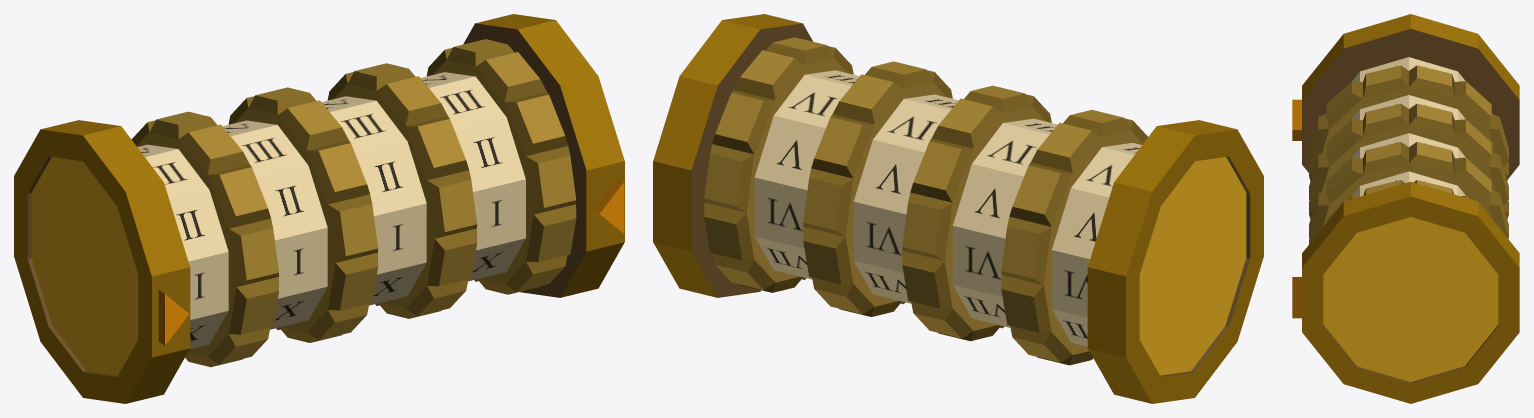
File: Padlock_Roman_Numbers.glb
The picture shows the model from 3 angles, left to right: view 1: azimuth 30°, elevation 25°; view 2: azimuth 150°, elevation 25°; view 3: azimuth 270°, elevation 25°; orthographic projection. The views are drawn at different scales.
Visible parts, largest first — view 1: PiratePadlock_01_base, Cylinder.014, Cylinder.012, Cylinder.013, Cylinder.016; view 2: PiratePadlock_01_base, Cylinder.013, Cylinder.014, Cylinder.012, Cylinder.016; view 3: PiratePadlock_01_base, Cylinder.012, Cylinder.016, Cylinder.013, Cylinder.014.
Boxes of the visible parts, x1,y1,x2,y2 form: PiratePadlock_01_base: (14, 14, 624, 403); Cylinder.014: (421, 39, 576, 294); Cylinder.012: (223, 87, 378, 342); Cylinder.013: (321, 63, 477, 318); Cylinder.016: (131, 111, 278, 367); PiratePadlock_01_base: (653, 14, 1263, 403); Cylinder.013: (803, 61, 958, 316); Cylinder.014: (704, 37, 859, 292); Cylinder.012: (902, 85, 1057, 341); Cylinder.016: (1001, 110, 1147, 365); PiratePadlock_01_base: (1292, 14, 1519, 403); Cylinder.012: (1309, 95, 1508, 219); Cylinder.016: (1309, 57, 1508, 180); Cylinder.013: (1309, 133, 1508, 244); Cylinder.014: (1317, 171, 1468, 233).
Bounding box in the file's own units: 0.5173 × 0.2743 × 0.2726.
Materials: 3 (3 with a texture image).
